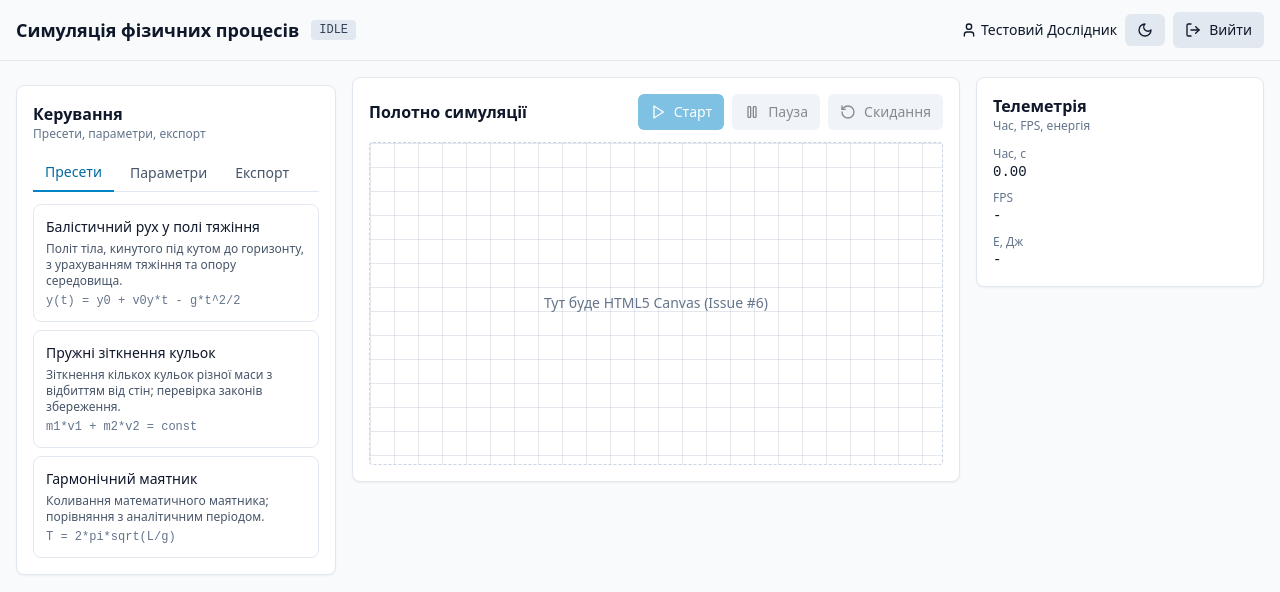
it: Інтеграція App › дозволяє обрати пресет у вкладці "Пресети"
The width and height of the screenshot is (1280, 592).
Step 1. Click the button "Гармонічний маятник" → (176, 507), box [33,456,319,558]
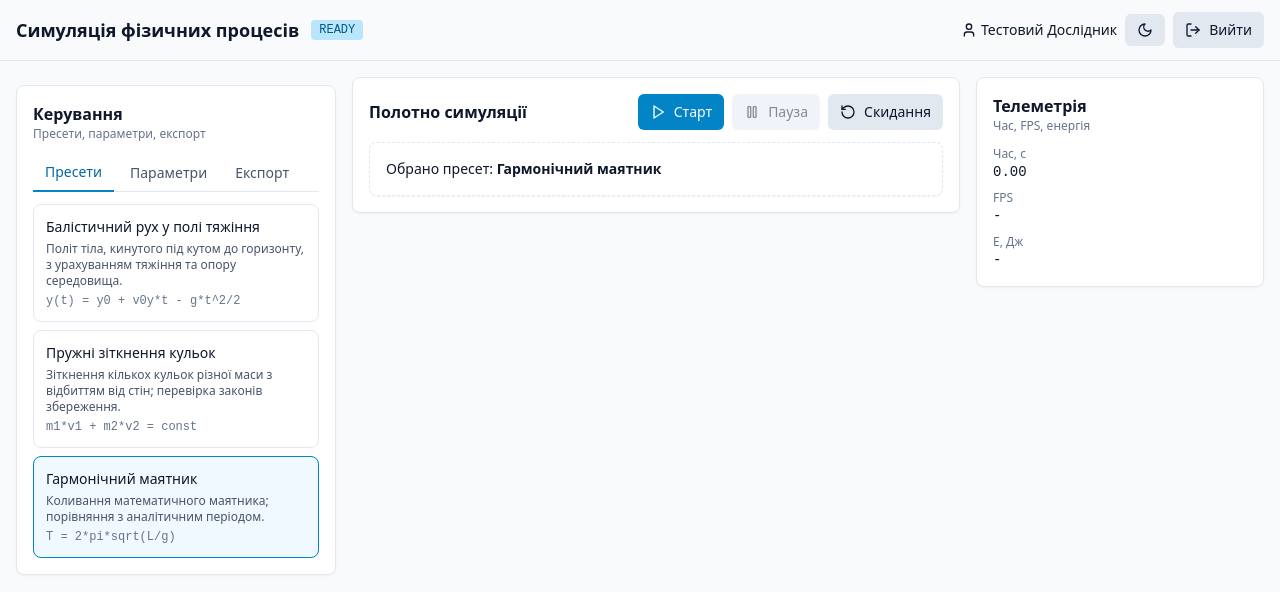
Check: the text with test id "selected-preset" reads "Гармонічний маятник", box [497,159,661,178]
